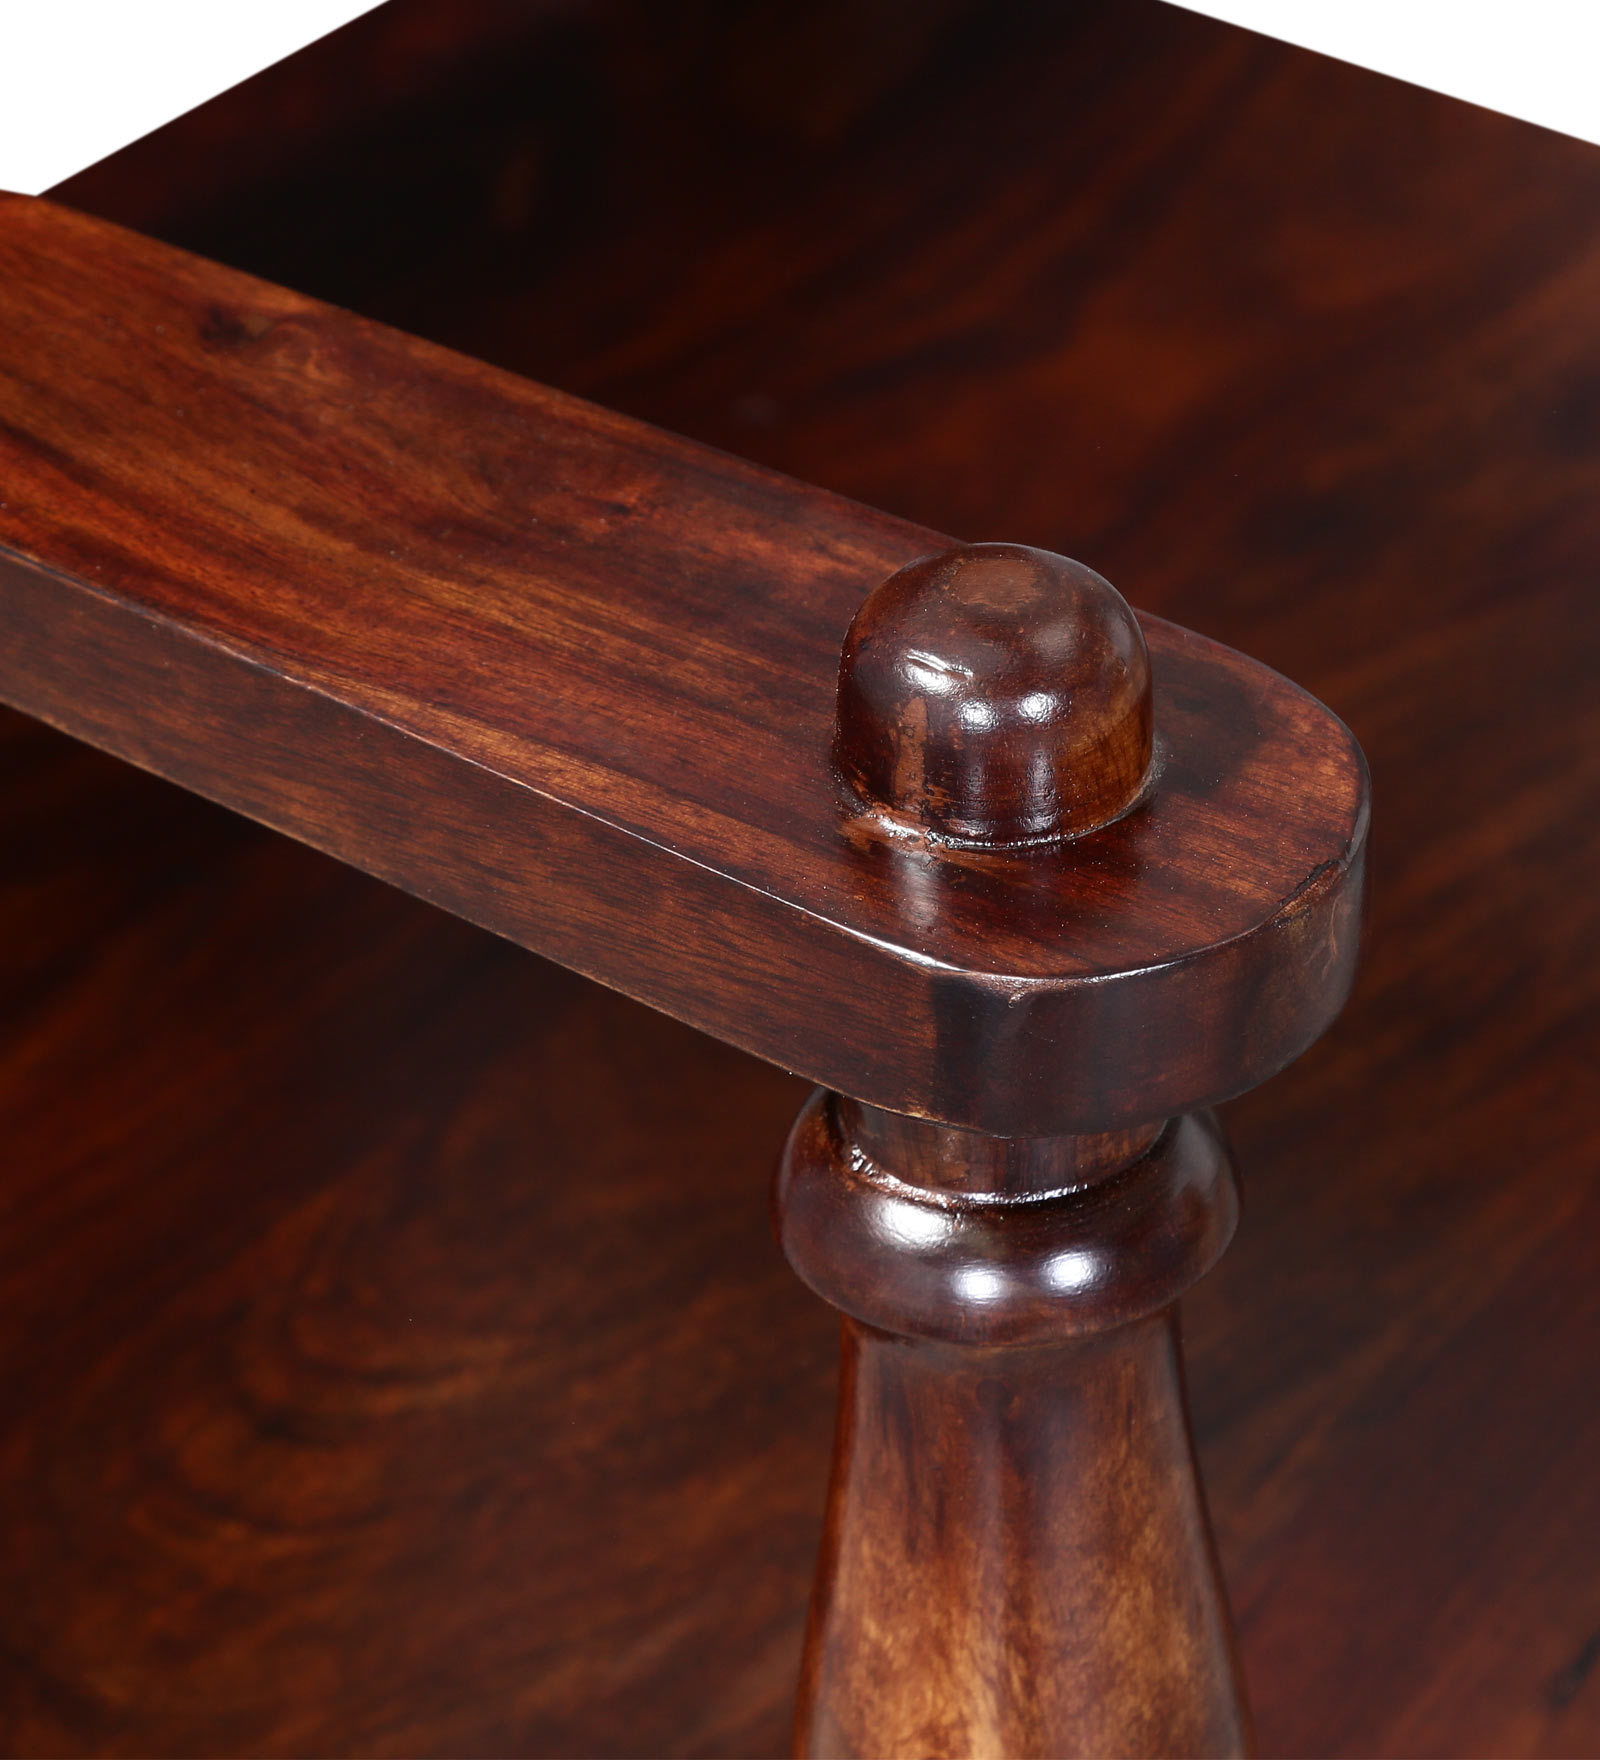Raylestone Arm Chair in Provincial Teak Finish by Amberville: (38, 32, 1484, 1716)
